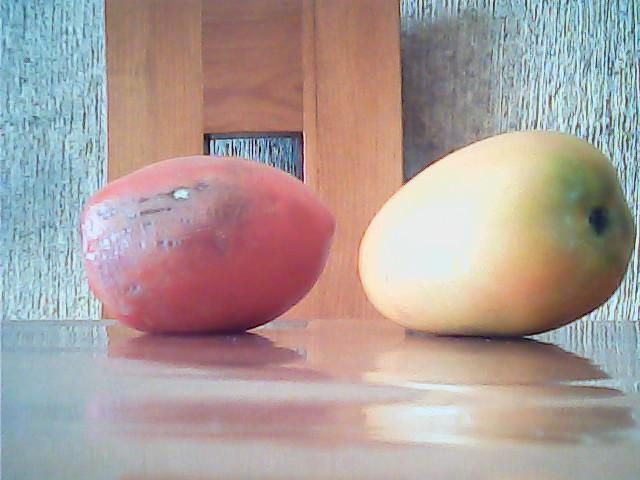defectuoso: (79, 157, 336, 337)
verde: (353, 130, 635, 339)
